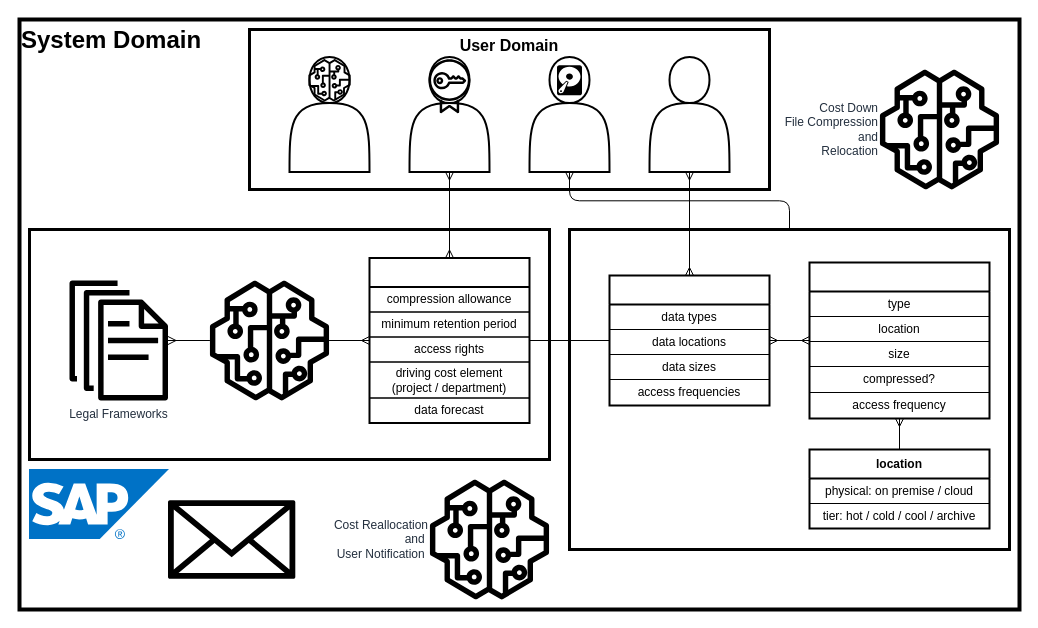
The diagram is 1038 pixels wide and 628 high, and some of its shapes have lost their labels. The box of each missing label's shape, as (x1, y1, x2, y2) in pixels:
Data Admin: (528, 56, 610, 172)
Data Domain: (568, 228, 1010, 550)
File: (808, 261, 990, 419)
LLM / NLP for Requirement Extraction: (209, 280, 329, 400)
Requirements Domain: (28, 228, 550, 460)
Share: (608, 274, 770, 406)
Share Admin: (408, 56, 490, 172)
Share Reader / Writer: (648, 56, 730, 172)
Share Requirements: (368, 256, 530, 424)
System Admin: (288, 56, 370, 172)
